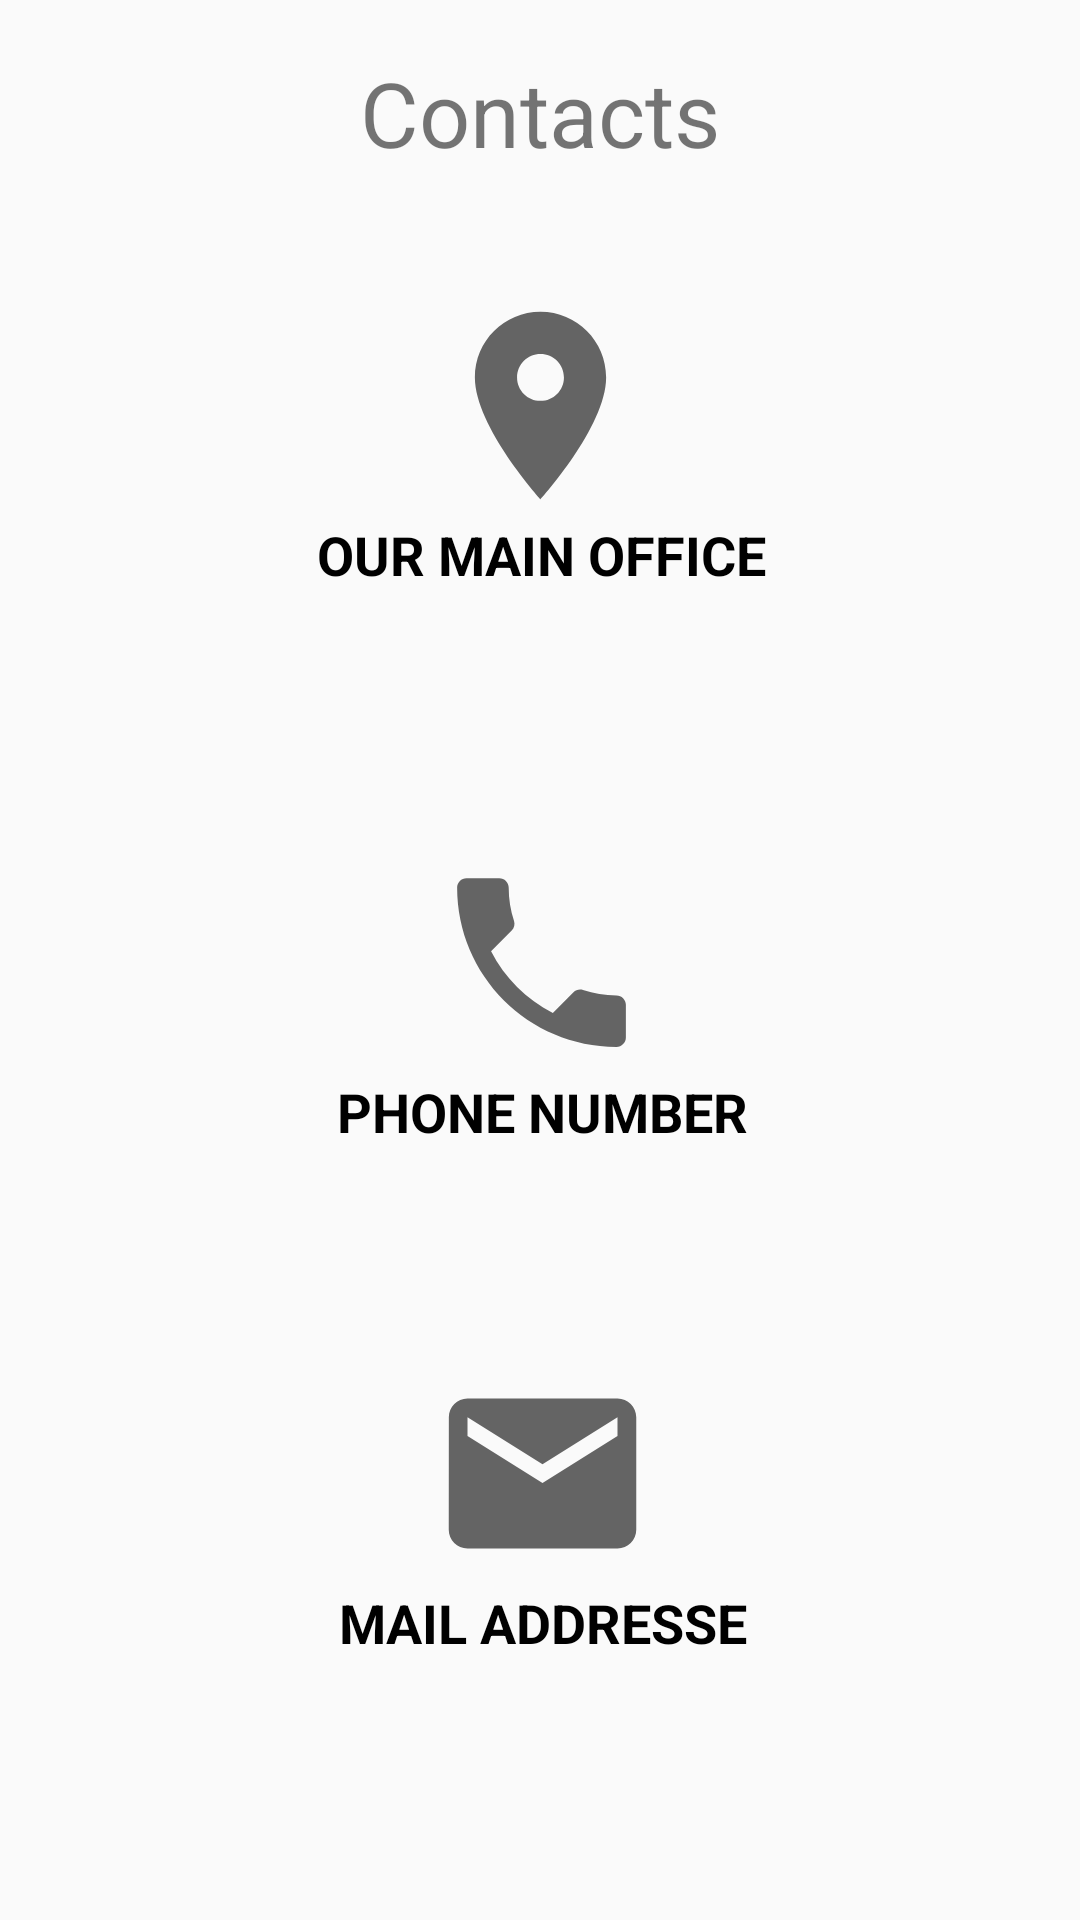

Where to tap for icons on this 1080x1920 app screen, as (x,y):
local phone: (541,962)
location on: (540,405)
